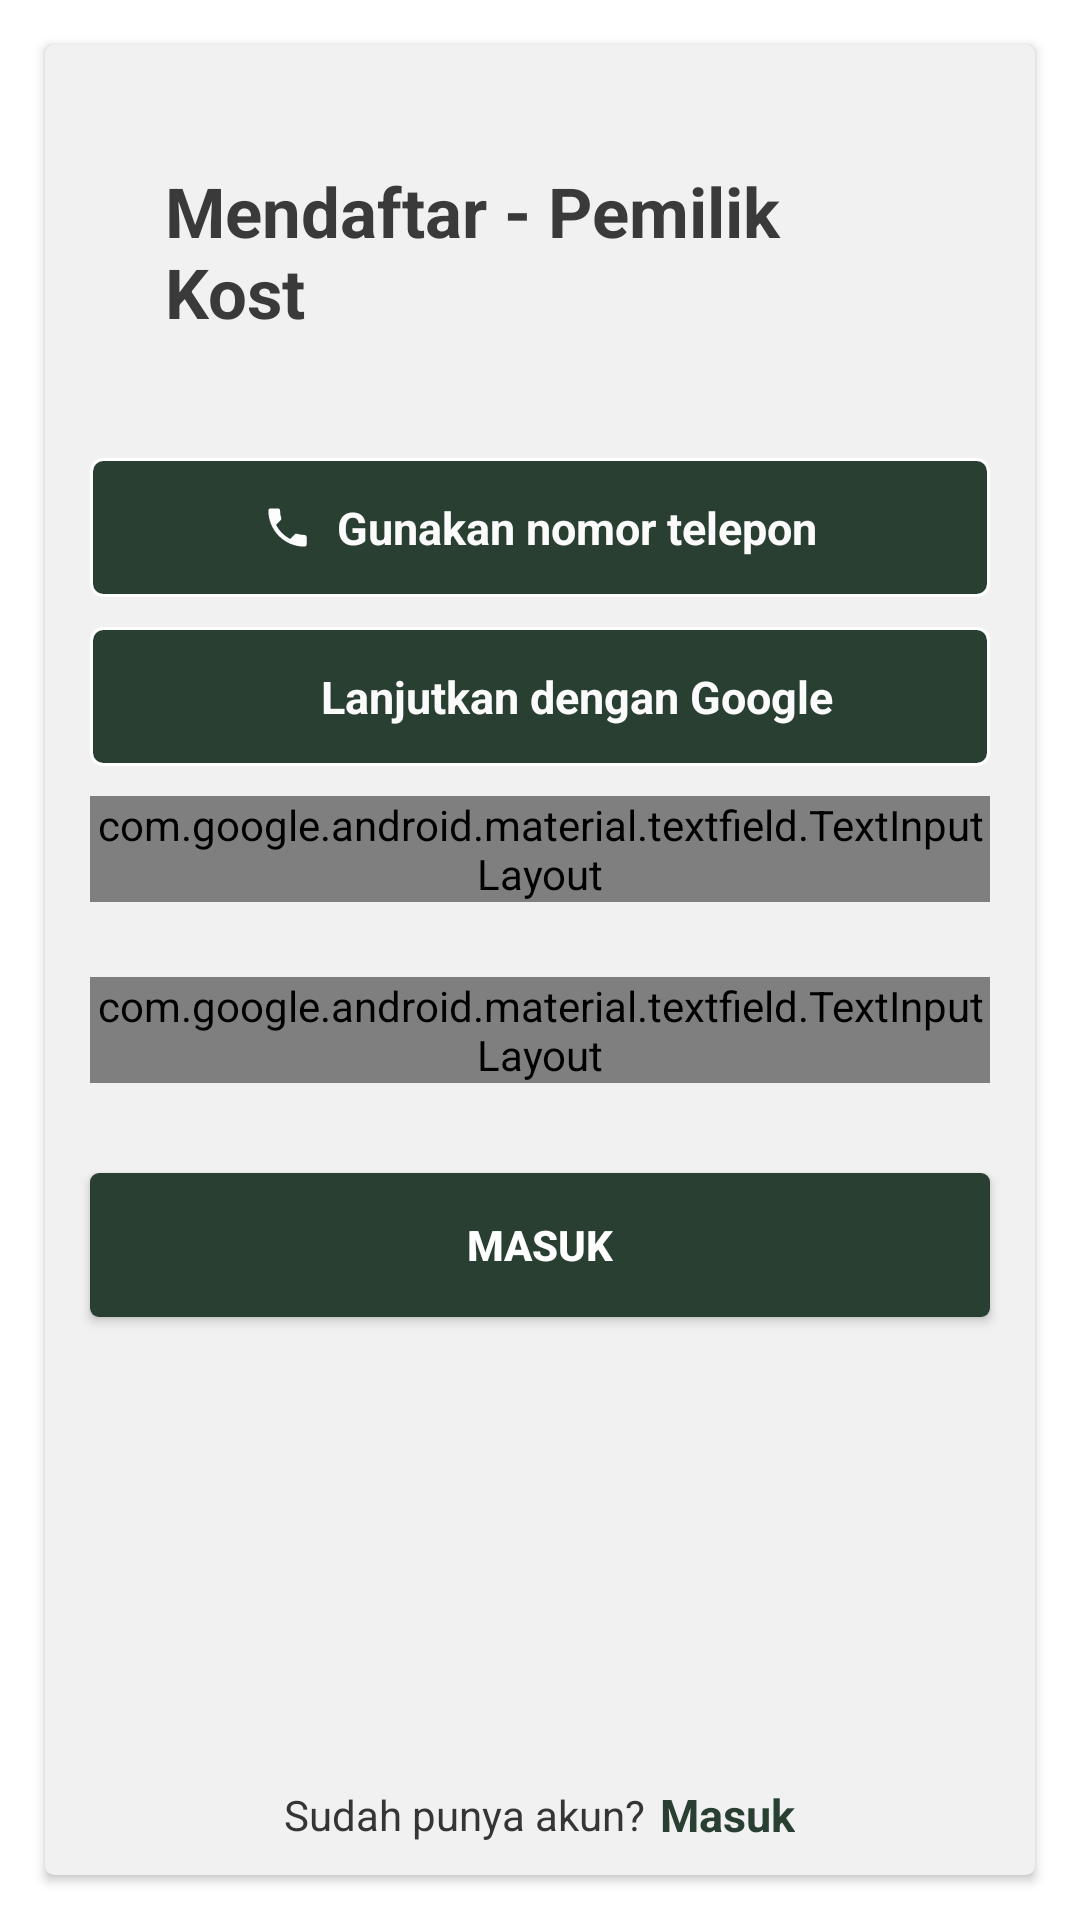

Screen size 1080 × 1920. Icon name, then its box in pixels as (x1, y1, x2, y2):
call: (268, 508, 307, 547)
